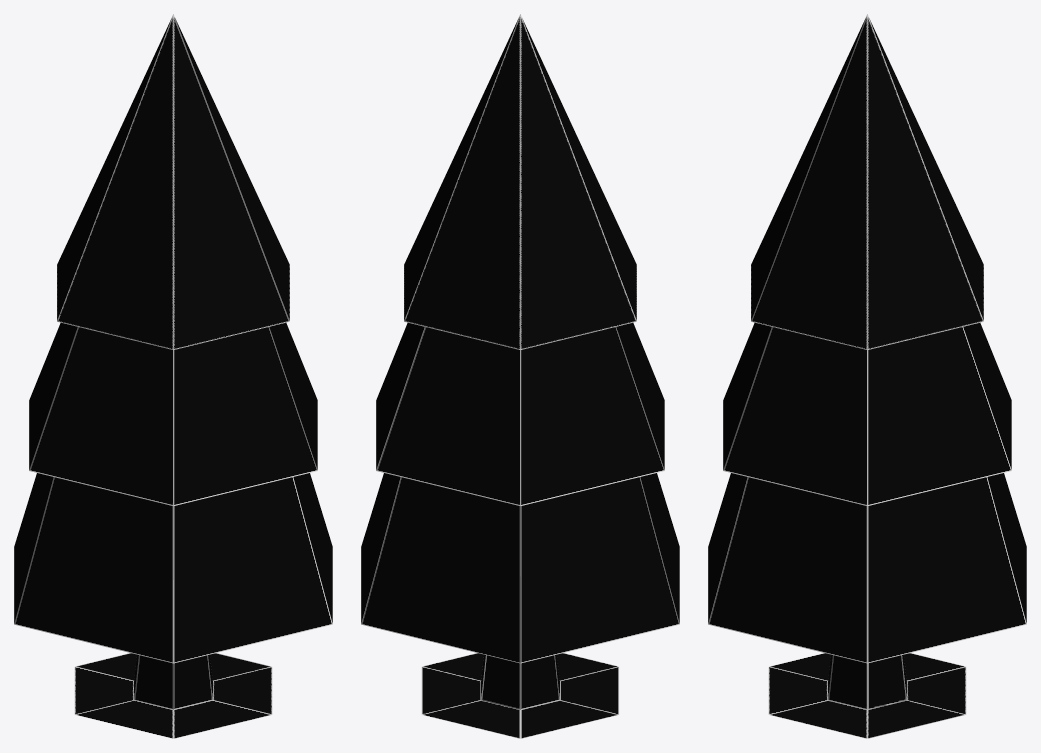
3 renders of one model, left to right at view 1: azimuth 30°, elevation 25°; view 2: azimuth 150°, elevation 25°; view 3: azimuth 270°, elevation 25°, orthographic.
Parts seen in each view (by area): view 1: DD_04; view 2: DD_04; view 3: DD_04.
Part boxes in pixels (box(x1,y1,x2,y2)): DD_04: box(14, 14, 332, 738); DD_04: box(361, 14, 679, 738); DD_04: box(708, 14, 1026, 738).
Size of the model in its own units: 322 by 654 by 279.
Materials: 1 (1 with a texture image).
